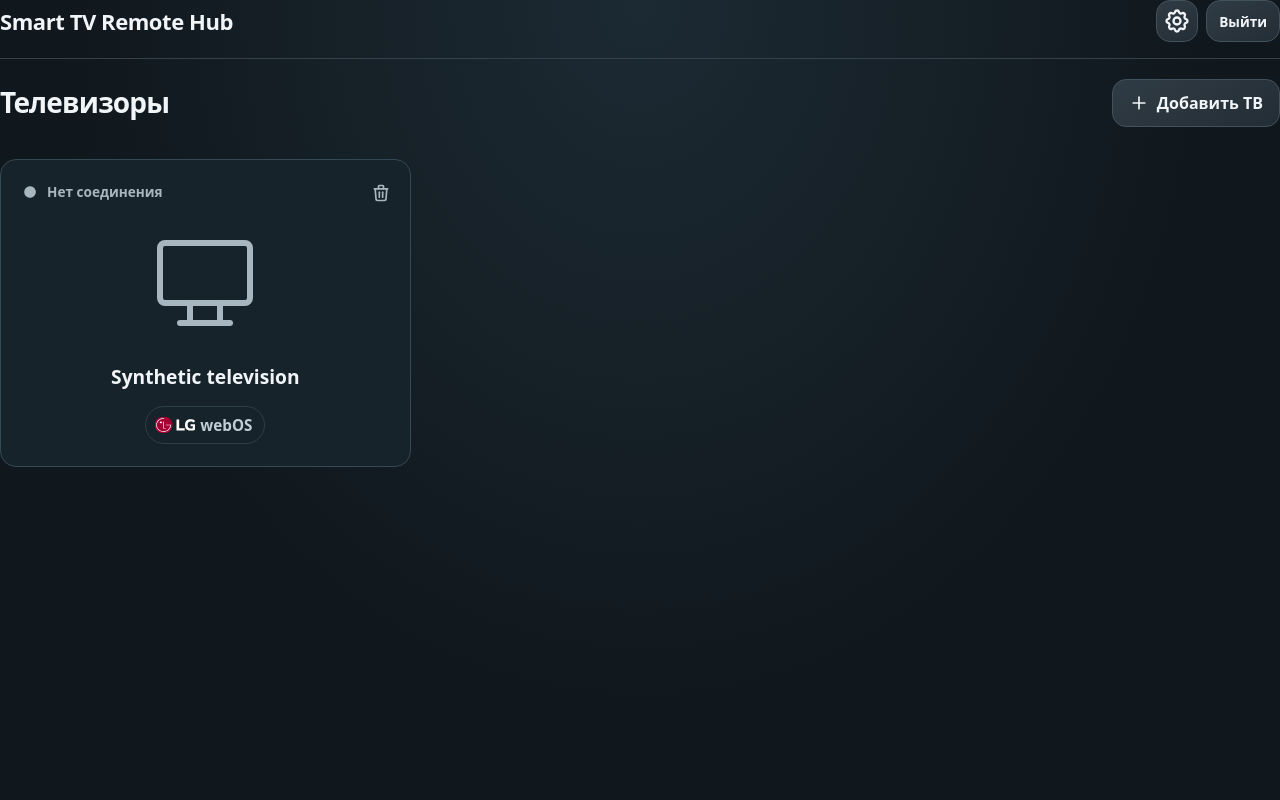
Scenario: account settings remain separate from TV settings
This screenshot has width=1280, height=800.
What coordinates should you click on to do the following:
click the button named "Настройки"
I would click on:
 (1177, 21)
Its box is [1156,0,1198,42].
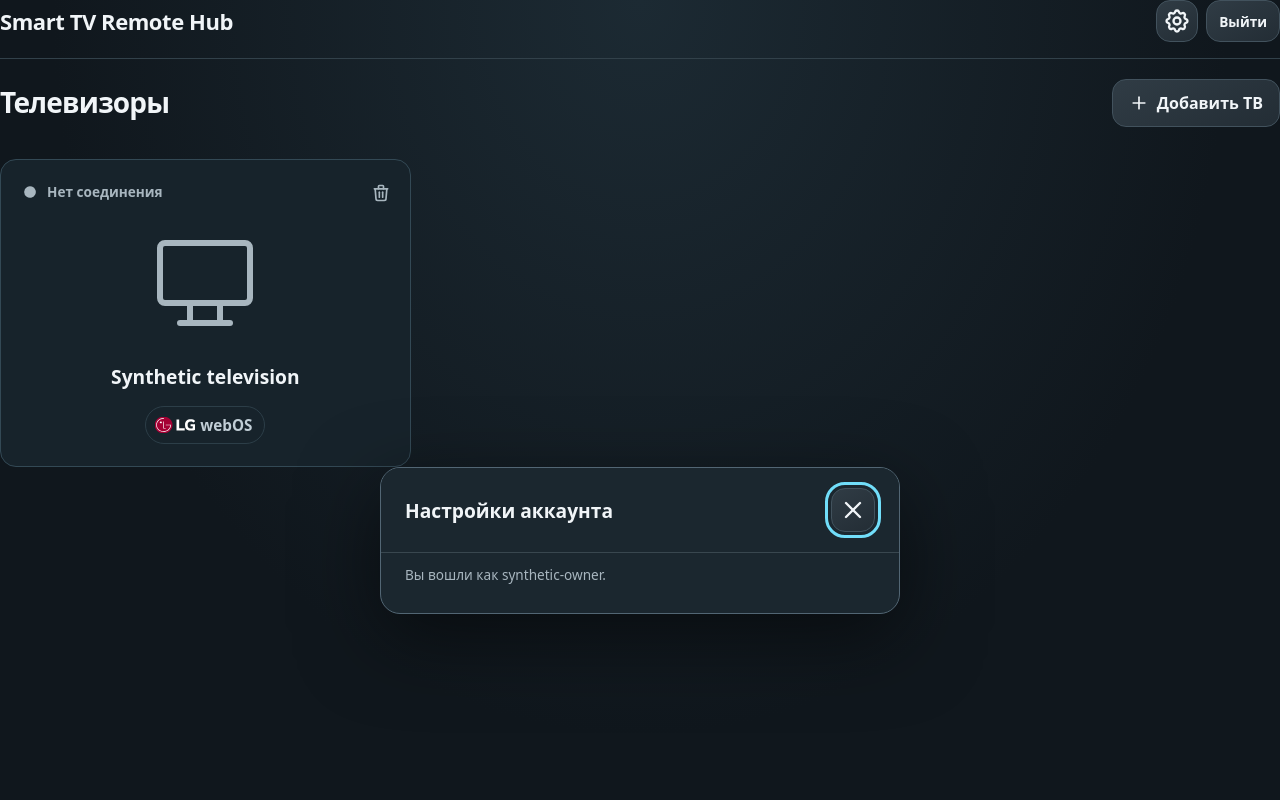
Check: the dialog "Настройки аккаунта" is shown, box [380,467,900,614]
Check: the text "Вы вошли как synthetic-owner." is shown, box [405,565,606,584]
